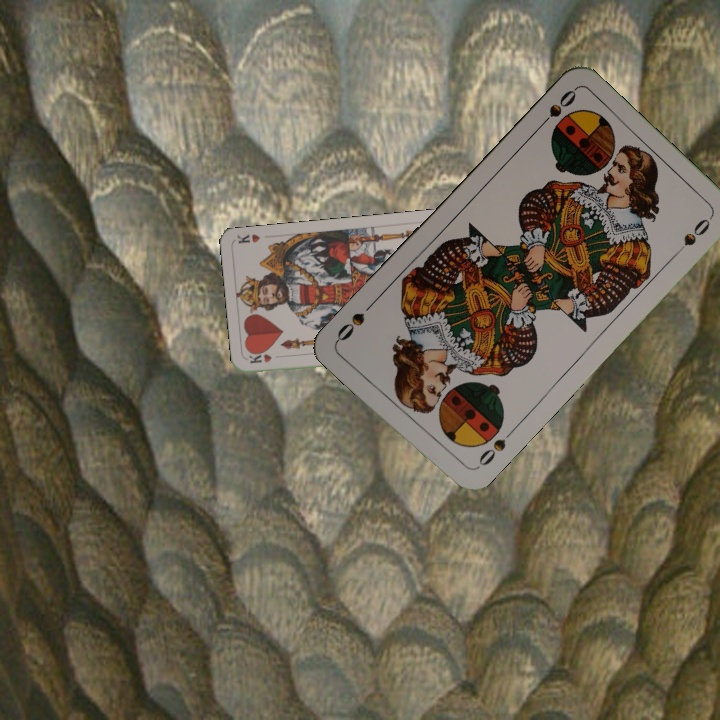HK: (245, 350, 274, 366)
SO: (533, 85, 579, 133), (470, 434, 509, 473)
